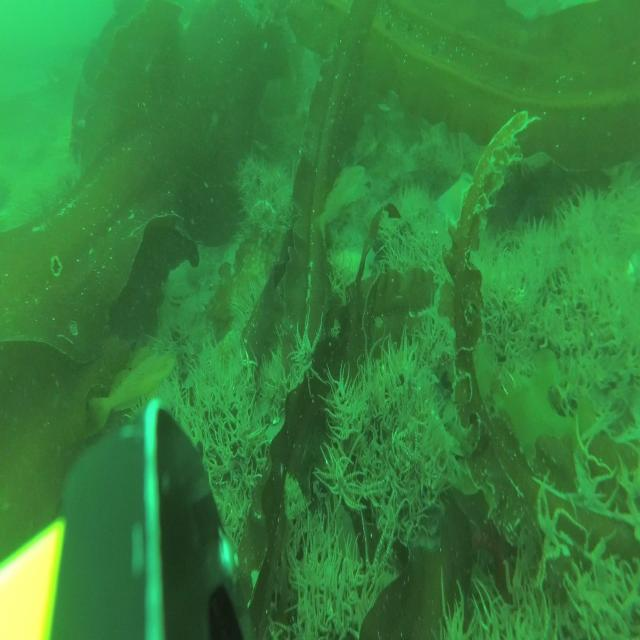starfish: (439, 170, 483, 226)
